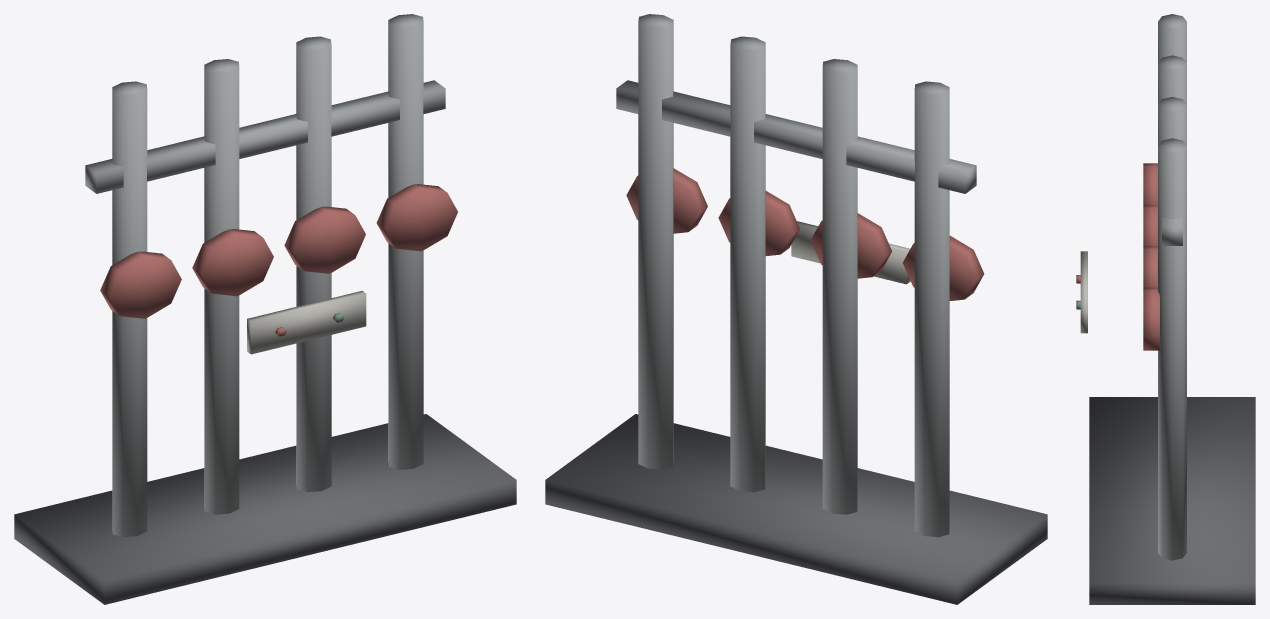
The model's file is steam_manifold__wide.glb.
3 views of the same model, side by side, from view 1: azimuth 30°, elevation 25°; view 2: azimuth 150°, elevation 25°; view 3: azimuth 270°, elevation 25° (orthographic). The views are drawn at different scales.
Visible parts, largest first — view 1: world; view 2: world; view 3: world.
Part boxes in pixels (x1,y1,x2,y2): world: (14,14,516,604); world: (545,14,1047,604); world: (1076,14,1255,604).
Size of the model in its own units: 1.05 by 1.14 by 0.431.
